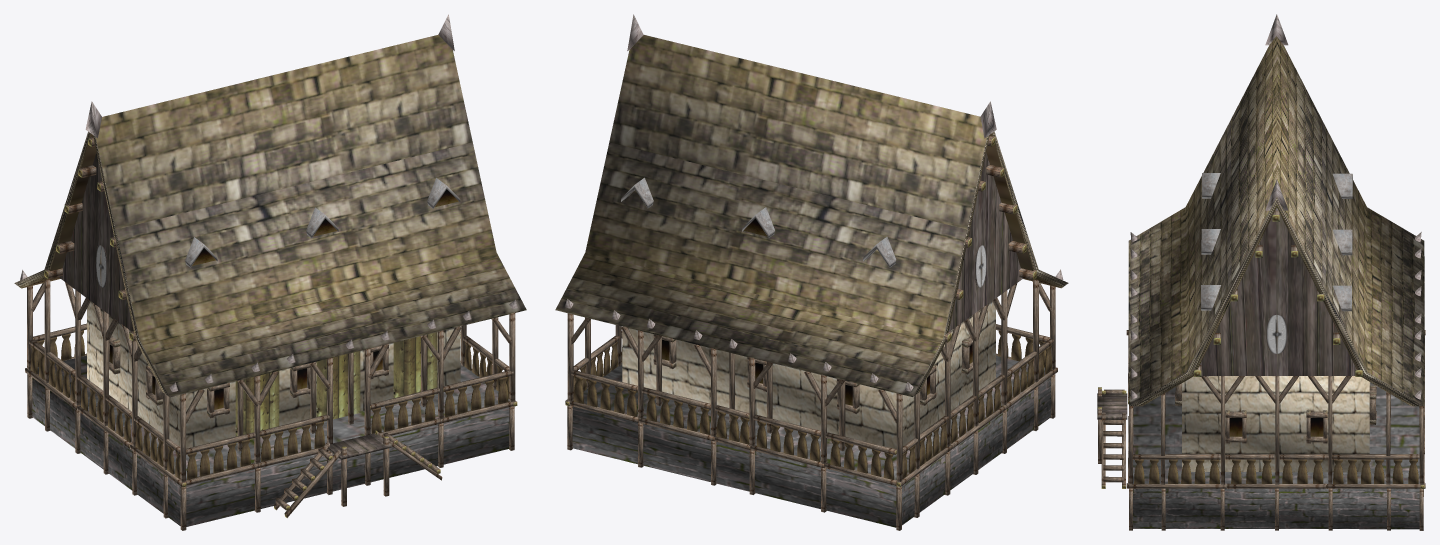
The model's file is assembleia_2.dae.
3 views of the same model, side by side, from view 1: azimuth 30°, elevation 25°; view 2: azimuth 150°, elevation 25°; view 3: azimuth 270°, elevation 25° (orthographic). The views are drawn at different scales.
Visible parts, largest first — view 1: assembleia_2; view 2: assembleia_2; view 3: assembleia_2.
Boxes of the visible parts, x1,y1,x2,y2 form: assembleia_2: (14,14,526,530); assembleia_2: (555,14,1068,530); assembleia_2: (1097,14,1425,530).
Bounding box in the file's own units: 23.44 × 19.44 × 23.32.
